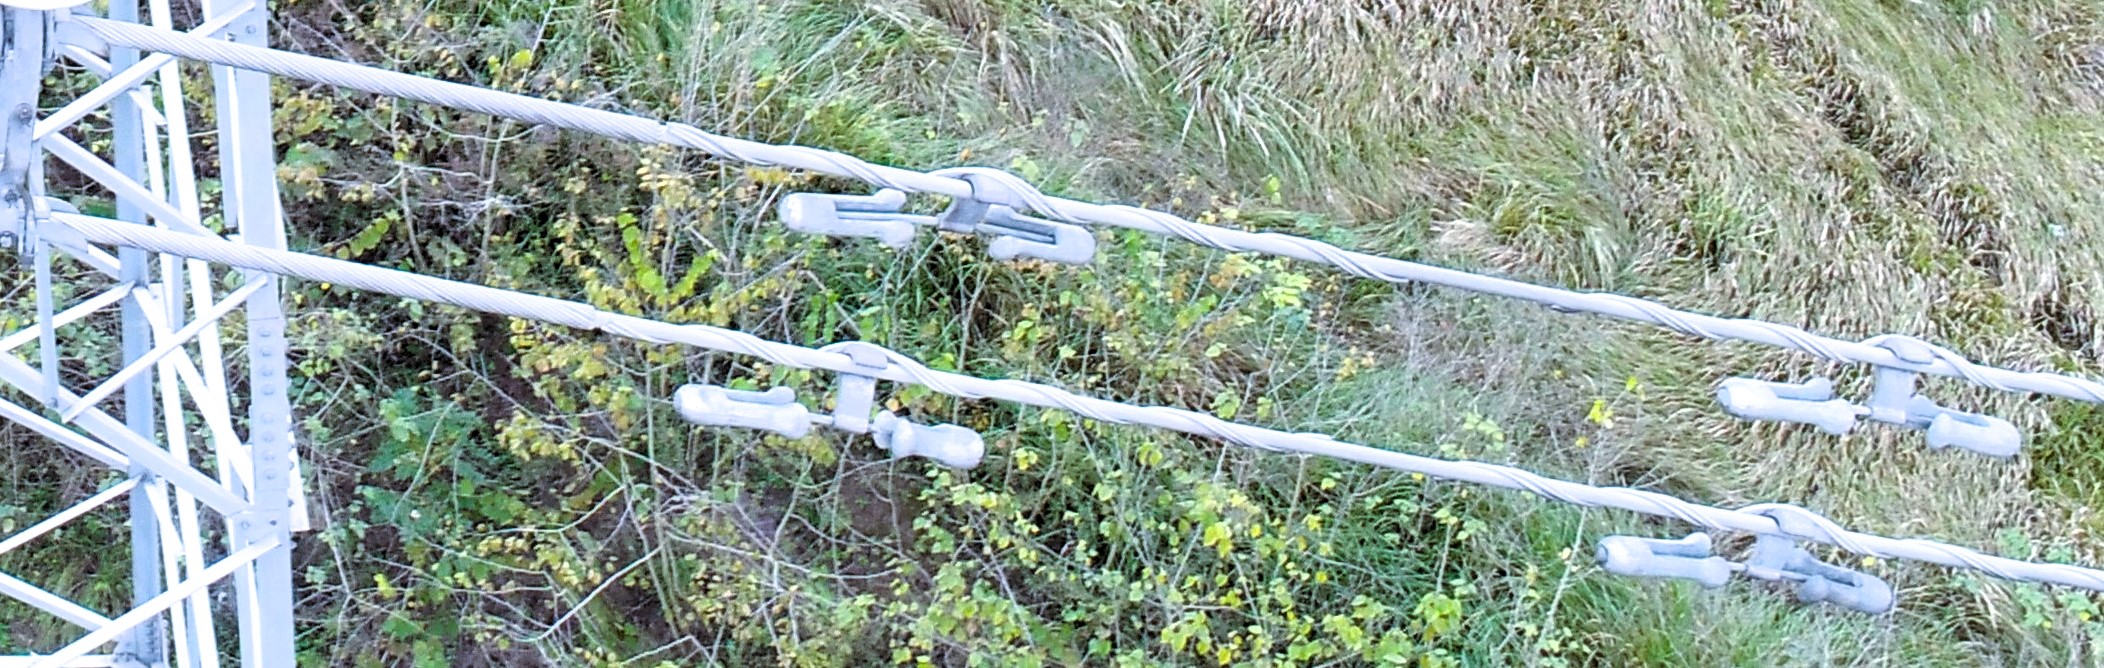Shockproof hammer: (667, 310, 993, 482), (1704, 314, 2026, 479), (773, 142, 1114, 282), (1595, 488, 1899, 638)
